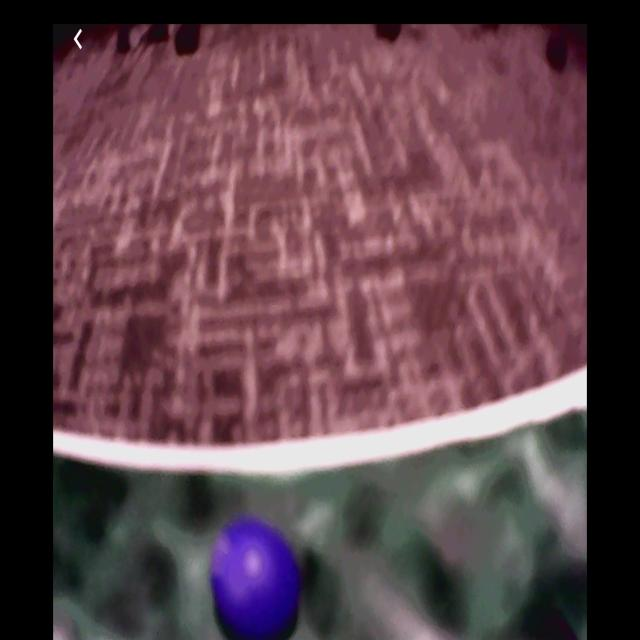ball: (213, 519, 301, 639)
